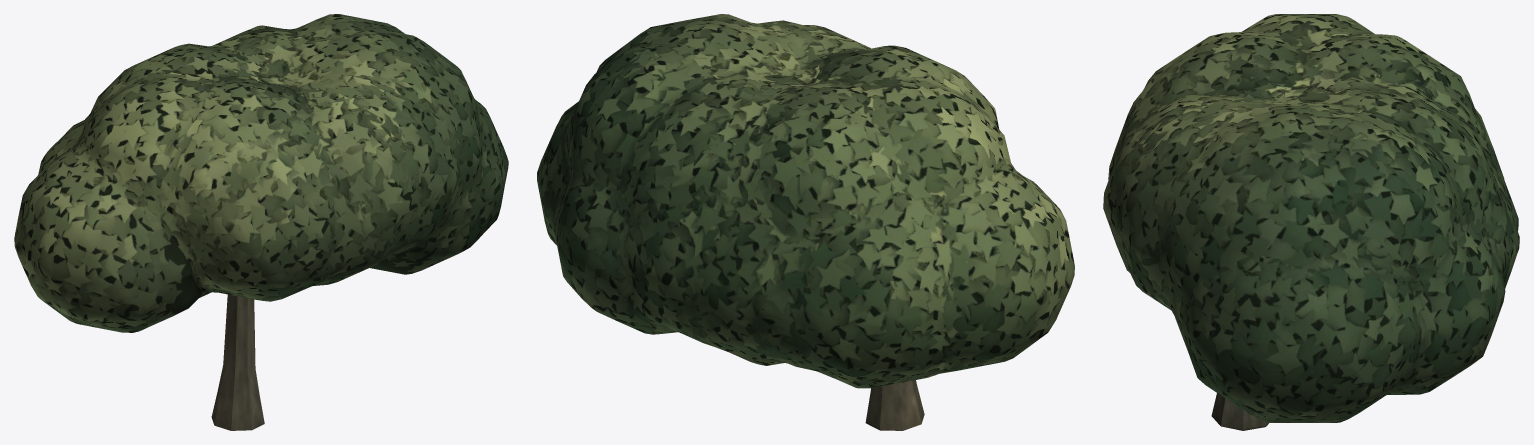
The model's file is tree_big.glb.
3 renders of one model, left to right at view 1: azimuth 30°, elevation 25°; view 2: azimuth 150°, elevation 25°; view 3: azimuth 270°, elevation 25°, orthographic. The views are drawn at different scales.
Visible parts, largest first — view 1: tree_big_lod0; view 2: tree_big_lod0; view 3: tree_big_lod0.
Part boxes in pixels (x1,y1,x2,y2): tree_big_lod0: [14, 14, 508, 430]; tree_big_lod0: [537, 14, 1074, 430]; tree_big_lod0: [1103, 14, 1519, 430].
Bounding box in the file's own units: 3.6 × 2.51 × 2.47.
Materials: 1 (1 with a texture image).
